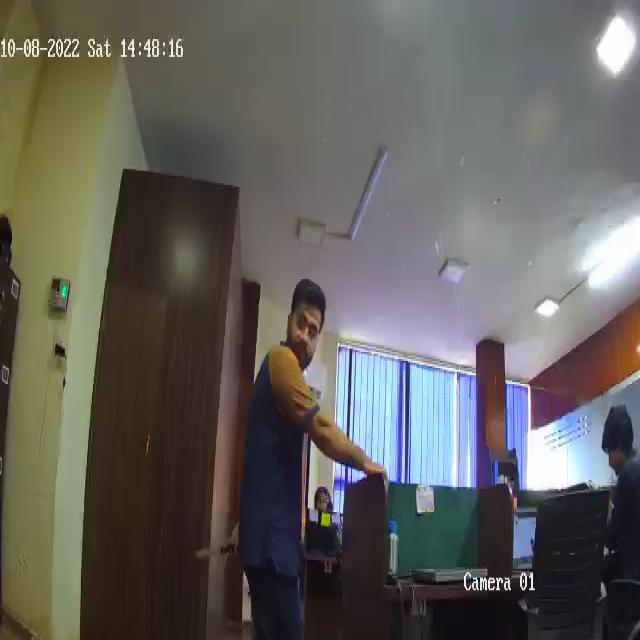Knife: (192, 540, 242, 564)
